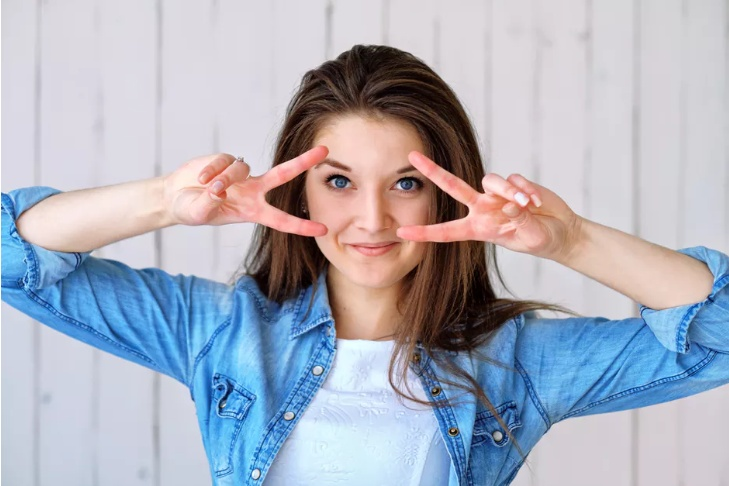face: (305, 111, 437, 289)
